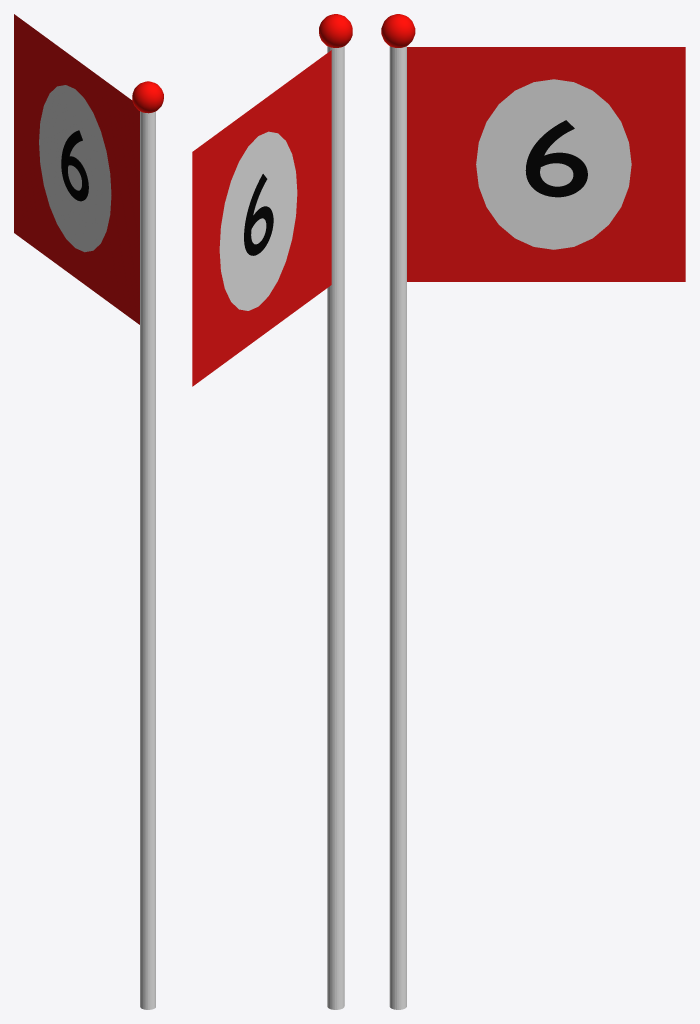
The model's file is Flag 6.fbx.
The picture shows the model from 3 angles, left to right: view 1: azimuth 30°, elevation 25°; view 2: azimuth 150°, elevation 25°; view 3: azimuth 270°, elevation 25°; orthographic projection. The views are drawn at different scales.
Parts seen in each view (by area): view 1: Plane.005, Cylinder.005, Circle.005, 1.010, Sphere.005; view 2: Plane.005, Cylinder.005, Circle.005, 1.010, Sphere.005; view 3: Plane.005, Circle.005, Cylinder.005, 1.011, Sphere.005.
Boxes of the visible parts, bbox=[...] form: Plane.005: bbox=[14, 14, 139, 324]; Cylinder.005: bbox=[140, 111, 155, 1009]; Circle.005: bbox=[39, 85, 111, 252]; 1.010: bbox=[61, 130, 88, 201]; Sphere.005: bbox=[132, 81, 163, 113]; Plane.005: bbox=[192, 50, 331, 386]; Cylinder.005: bbox=[327, 46, 344, 1009]; Circle.005: bbox=[219, 131, 297, 310]; 1.010: bbox=[244, 174, 273, 255]; Sphere.005: bbox=[319, 14, 352, 47]; Plane.005: bbox=[407, 47, 685, 281]; Circle.005: bbox=[476, 79, 631, 249]; Cylinder.005: bbox=[389, 46, 406, 1009]; 1.011: bbox=[525, 120, 587, 197]; Sphere.005: bbox=[381, 14, 415, 47].
Bounding box in the file's own units: 3.94 × 127 × 35.22.
